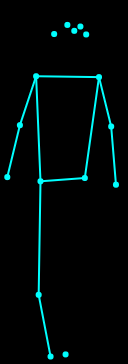mountain: (4, 16, 120, 360)
